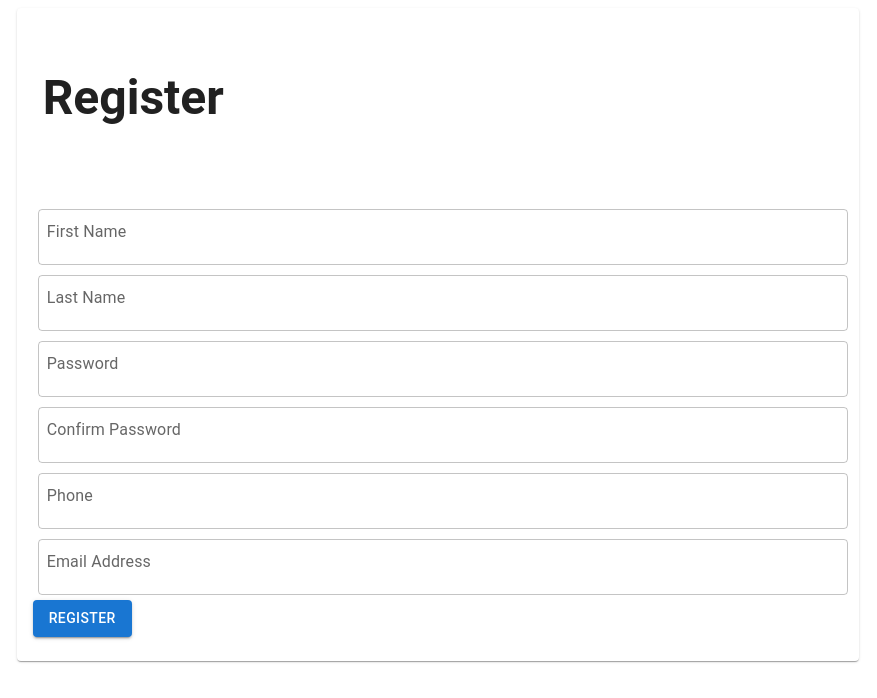
Test: Register › should display error when inputs are empty
The image size is (877, 698).
Click the button "Register" at x=82, y=619, box [33, 600, 132, 637]
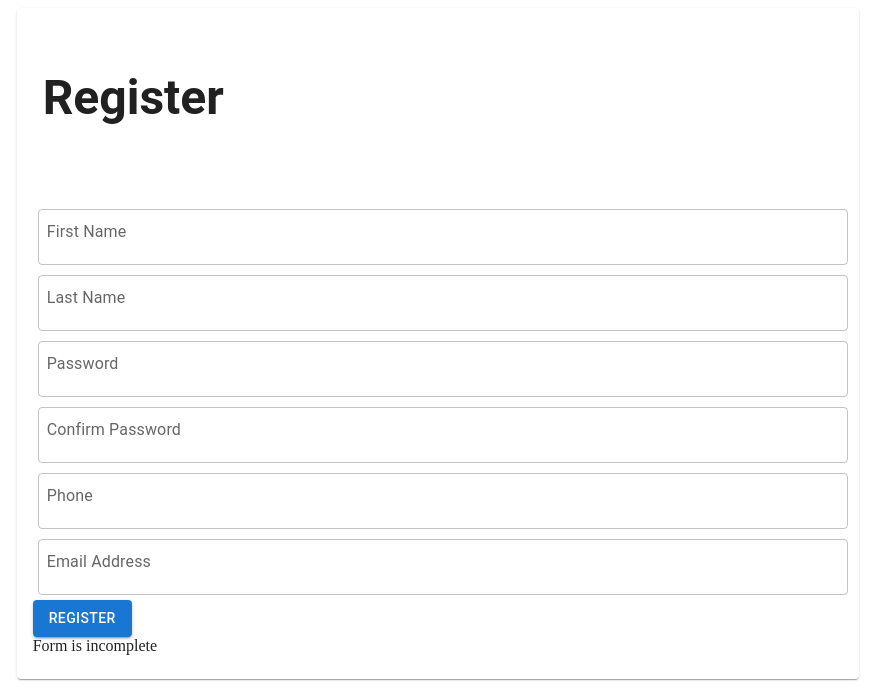
Result: the text "Form is incomplete" is shown at [33, 637, 157, 654]
